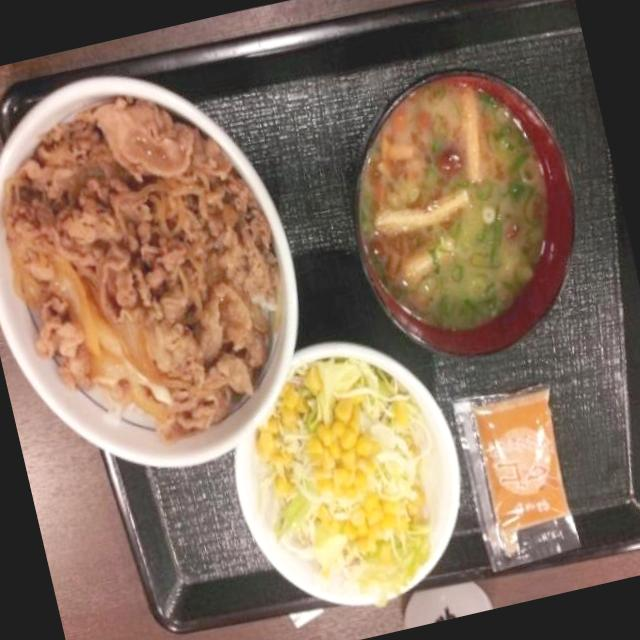Green Salad: (236, 338, 466, 625)
